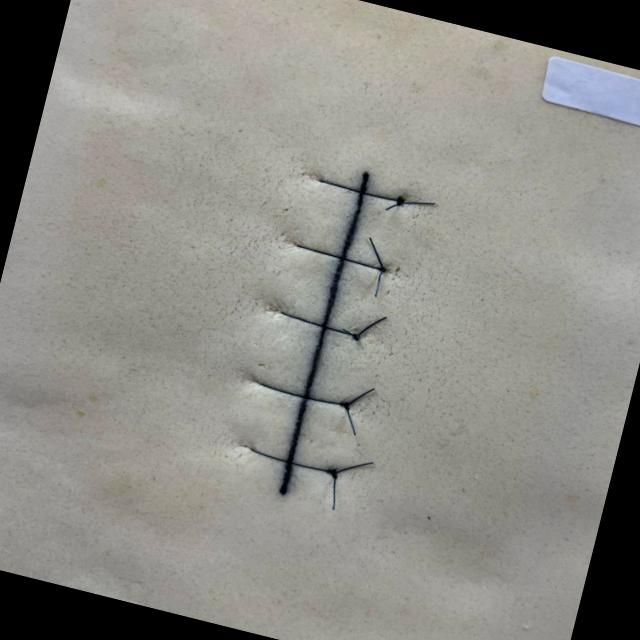knot: (323, 467, 339, 480), (336, 400, 352, 412), (393, 194, 406, 207), (349, 332, 362, 342), (376, 265, 388, 274)
leftover: (354, 315, 387, 339), (344, 387, 375, 406), (367, 236, 384, 270), (331, 461, 374, 474), (344, 405, 356, 436), (373, 269, 384, 297), (330, 473, 336, 511), (341, 327, 357, 340), (397, 200, 436, 205), (384, 202, 399, 210)
stitch: (294, 244, 385, 271), (247, 446, 333, 473), (257, 381, 347, 406), (278, 310, 357, 337), (317, 179, 402, 201)
wound: (279, 171, 368, 495)
